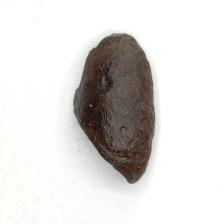NG: (72, 105, 134, 185)
